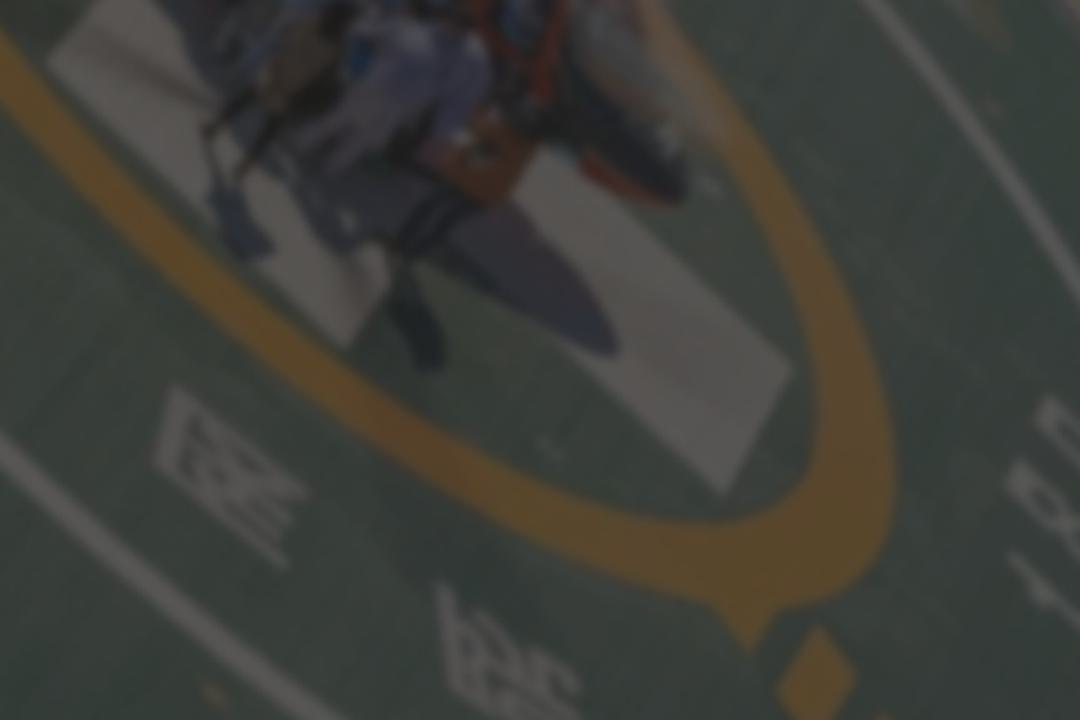Apron: (1, 1, 900, 647)
